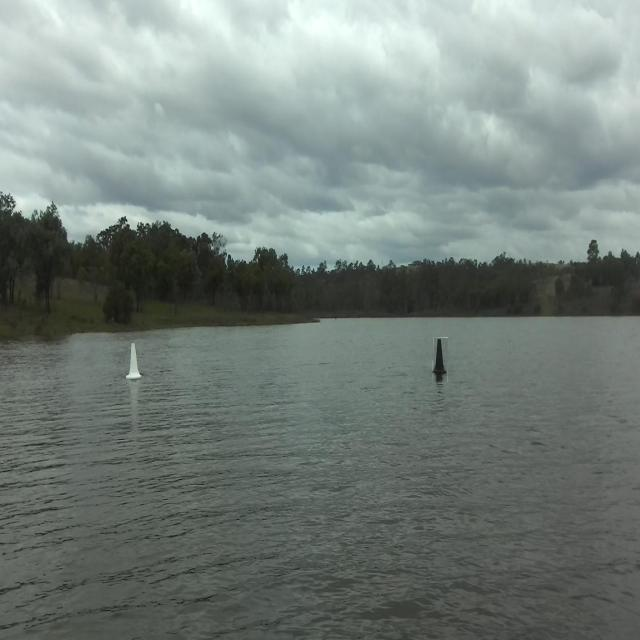Black_Buoy: (430, 339, 460, 378)
White_Buoy: (125, 330, 150, 398)
